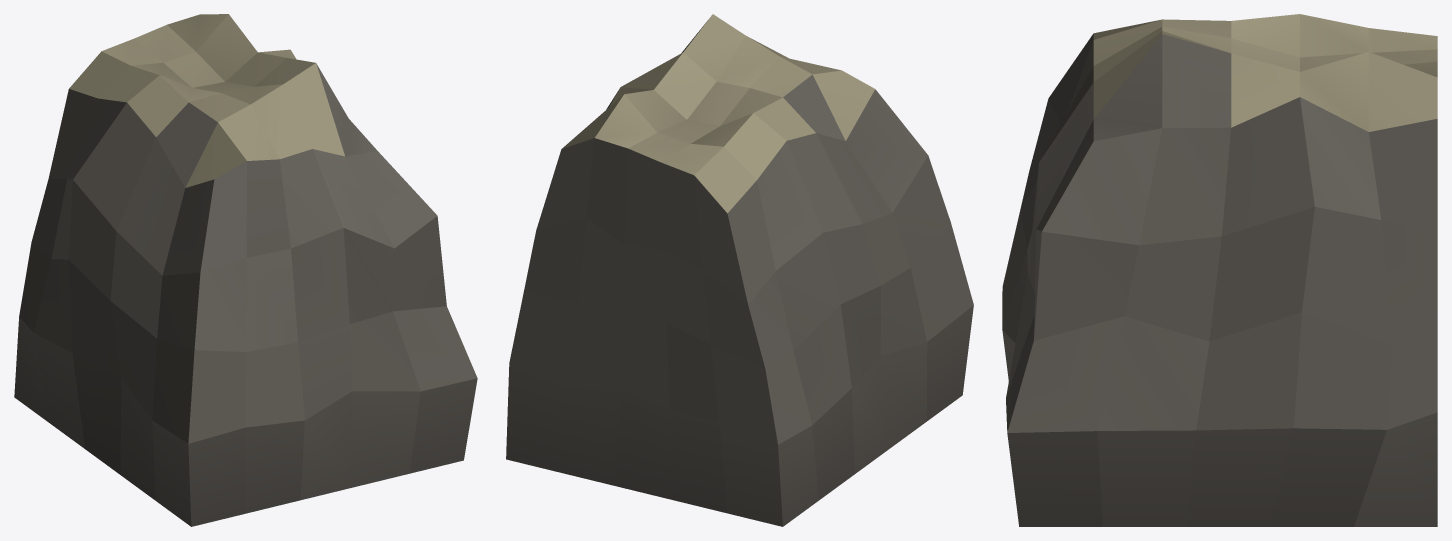
Rendered from roca_punta.glb.
3 renders of one model, left to right at view 1: azimuth 30°, elevation 25°; view 2: azimuth 150°, elevation 25°; view 3: azimuth 270°, elevation 25°, orthographic. The views are drawn at different scales.
Parts seen in each view (by area): view 1: propforge-cuartos-roca_punta; view 2: propforge-cuartos-roca_punta; view 3: propforge-cuartos-roca_punta.
Boxes of the visible parts, x1,y1,x2,y2 form: propforge-cuartos-roca_punta: [14, 14, 477, 526]; propforge-cuartos-roca_punta: [506, 14, 973, 526]; propforge-cuartos-roca_punta: [1002, 14, 1437, 526].
Size of the model in its own units: 0.8634 by 1.05 by 0.9362.
